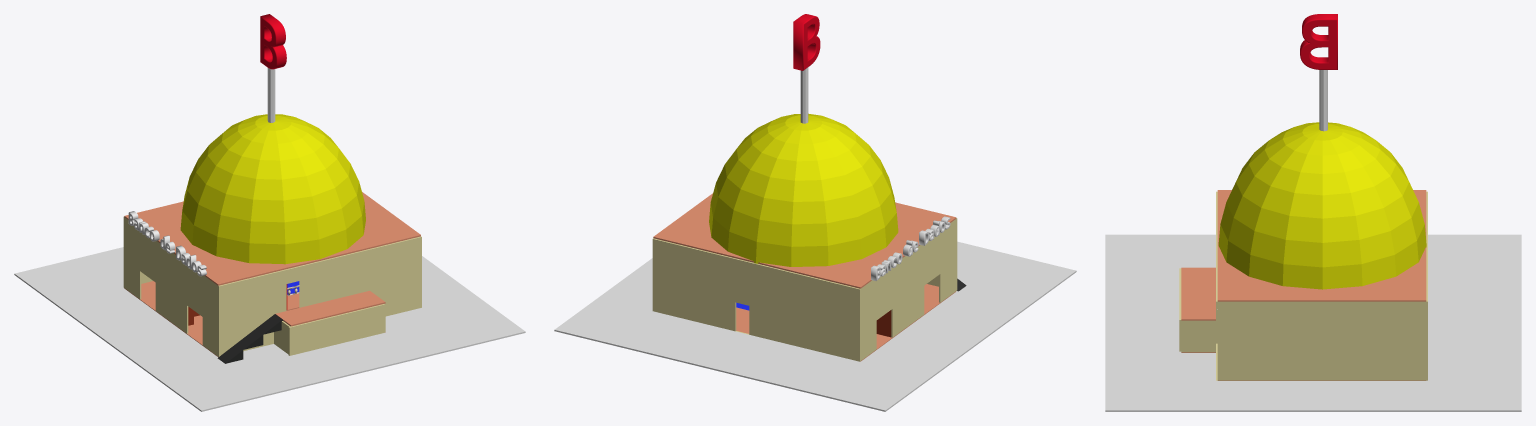
File: Blocagem_Ponto_B-019.fbx
3 renders of one model, left to right at view 1: azimuth 30°, elevation 25°; view 2: azimuth 150°, elevation 25°; view 3: azimuth 270°, elevation 25°, orthographic. The views are drawn at different scales.
Parts seen in each view (by area): view 1: Cube.004, Teto, Parede.001, Parede.004, Piso.004, Parede.009, Piso.007, Text.001, Text, Escada.001, Piso.001, Coluna Pequena.001; view 2: Cube.004, Teto, Parede.005, Parede.004, Piso.004, Text.001, Text, Piso.001, Coluna Pequena.001; view 3: Cube.004, Teto, Parede.003, Piso.004, Piso.007, Text.001, Parede.009, Coluna Pequena.001, Parede.001, Parede.005.
Boxes of the visible parts, x1,y1,x2,y2 form: Cube.004: (14,247,525,411); Teto: (180,114,365,264); Parede.001: (218,236,421,356); Parede.004: (124,217,218,356); Piso.004: (124,192,420,285); Parede.009: (274,303,385,355); Piso.007: (275,290,385,326); Text.001: (260,14,286,69); Text: (128,211,206,276); Escada.001: (217,314,282,363); Piso.001: (124,281,218,357); Coluna Pequena.001: (267,68,275,122); Cube.004: (554,241,1076,411); Teto: (709,113,898,266); Parede.005: (652,238,860,361); Parede.004: (860,219,956,360); Piso.004: (653,193,956,288); Text.001: (793,14,820,70); Text: (871,216,950,280); Piso.001: (736,284,955,361); Coluna Pequena.001: (800,67,808,123); Cube.004: (1105,234,1521,411); Teto: (1218,122,1426,289); Parede.003: (1217,301,1426,380); Piso.004: (1217,190,1426,301); Piso.007: (1181,267,1215,320); Text.001: (1300,14,1337,69); Parede.009: (1179,268,1215,352); Coluna Pequena.001: (1319,70,1327,131); Parede.001: (1216,191,1217,380); Parede.005: (1426,191,1427,380).
Bounding box in the file's own units: 4790 × 3948 × 4790.
